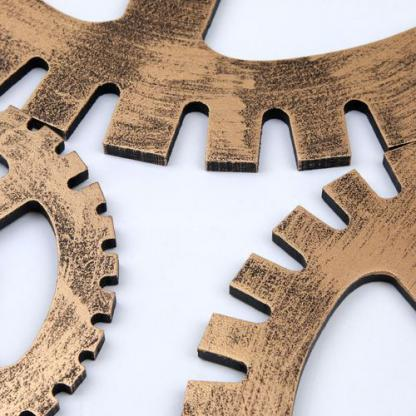FOD: (0, 100, 124, 415)
